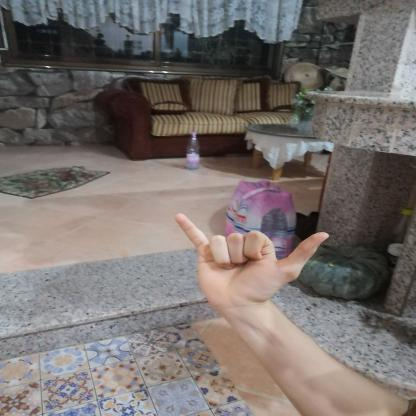YA: (157, 204, 344, 322)
